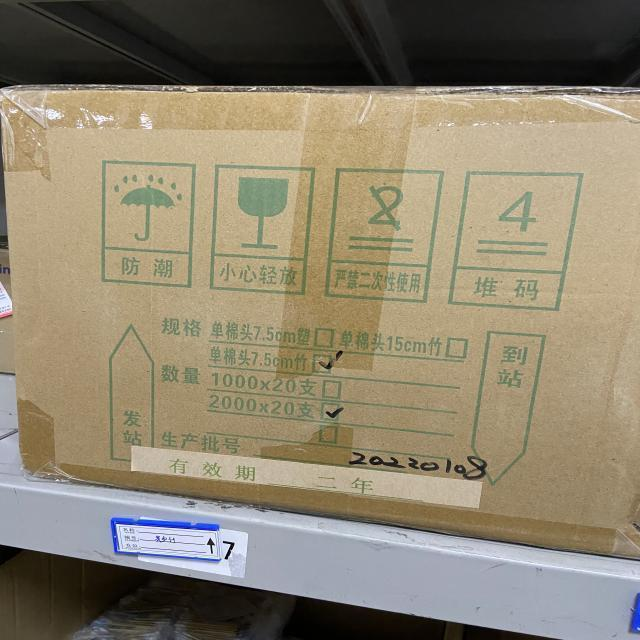box: (1, 82, 640, 564)
